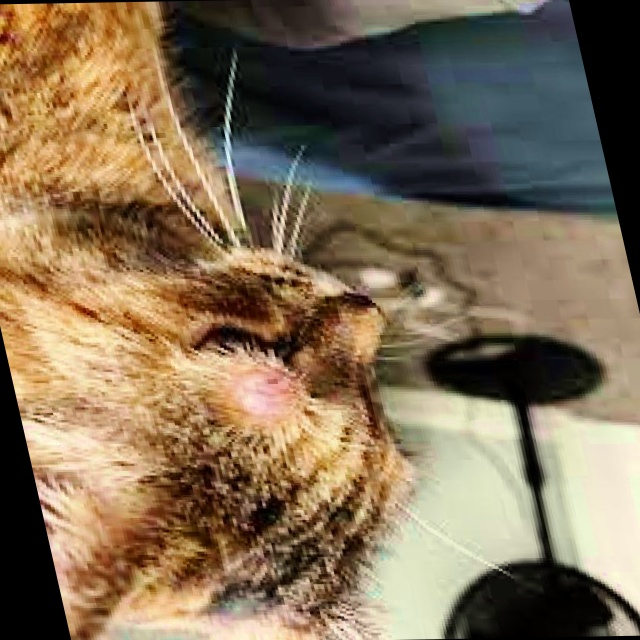lump_and_bump: (224, 359, 322, 430)
